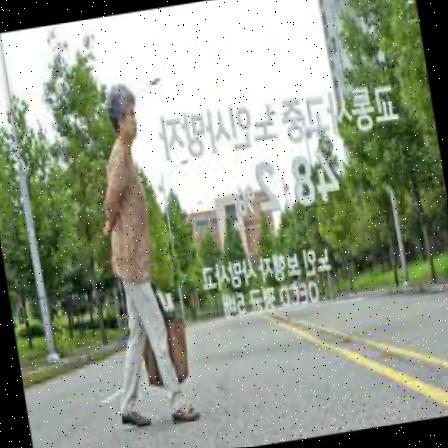silver: (72, 82, 193, 432)
